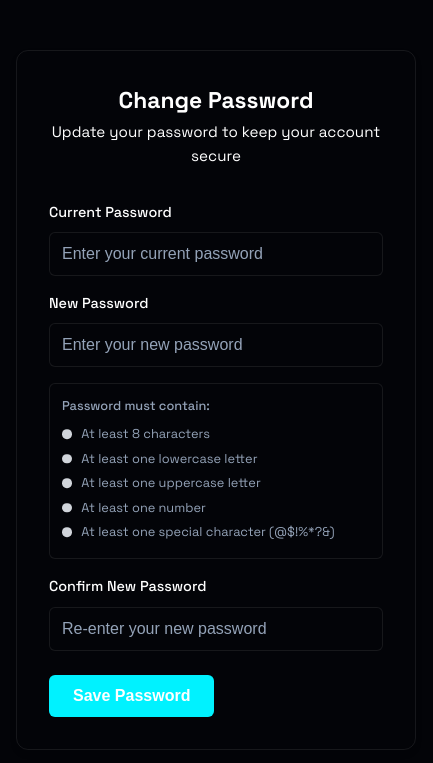
Scenario: ChangePasswordForm › Form submission › should handle password change failure
The width and height of the screenshot is (433, 763).
Step 1. Type "WrongPass123!" into the password field labelled "Current Password" → (216, 254), box top-left (49, 232), bottom-right (383, 276)
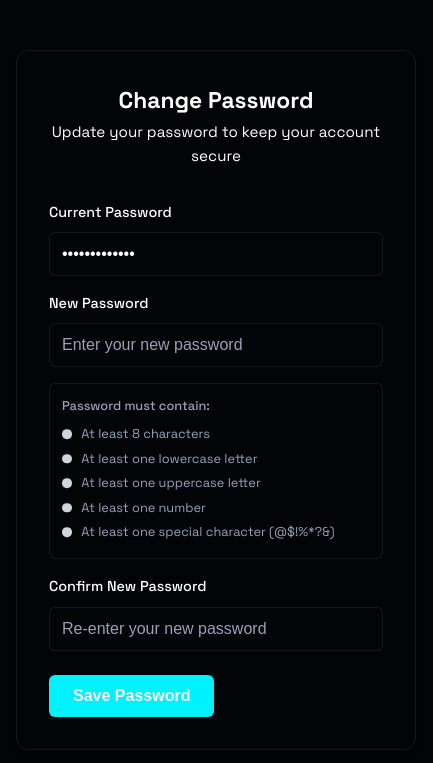
Step 2. Type "NewPass123!" into the password field labelled "New Password" → (216, 345), box top-left (49, 323), bottom-right (383, 367)
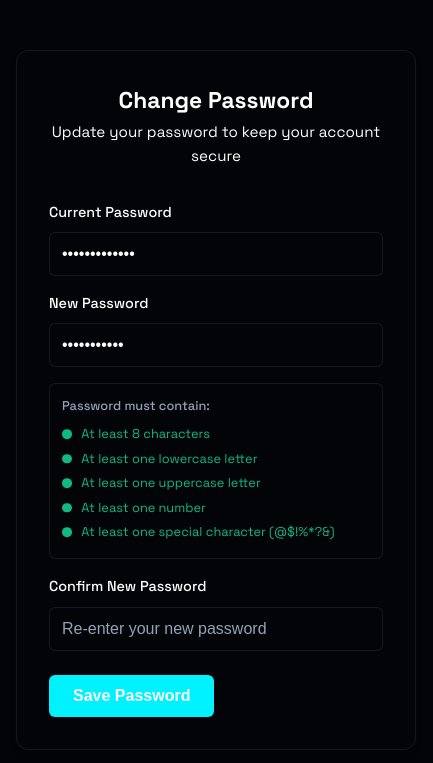
Step 3. Type "NewPass123!" into the password field labelled "Confirm New Password" → (216, 628), box top-left (49, 606), bottom-right (383, 650)
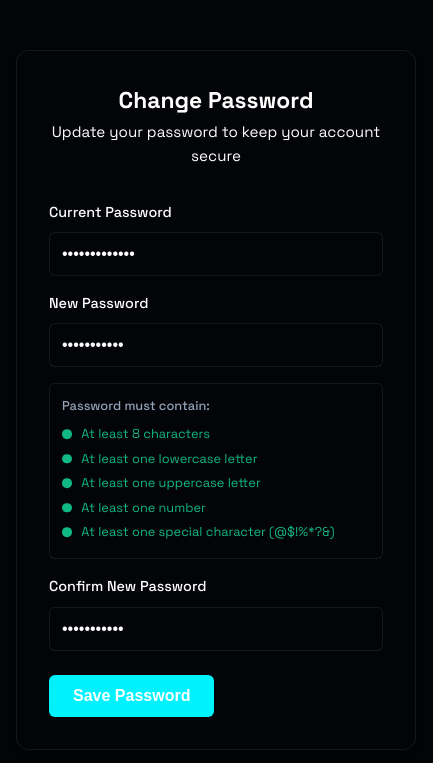
Step 4. Click the button "Save Password" → (132, 696), box top-left (49, 674), bottom-right (214, 716)
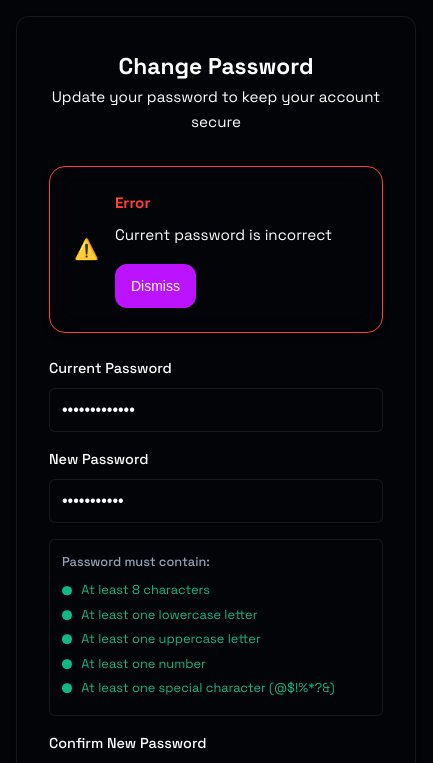
Expected: the text "Current password is incorrect" is shown, top-left (115, 223), bottom-right (358, 248)
